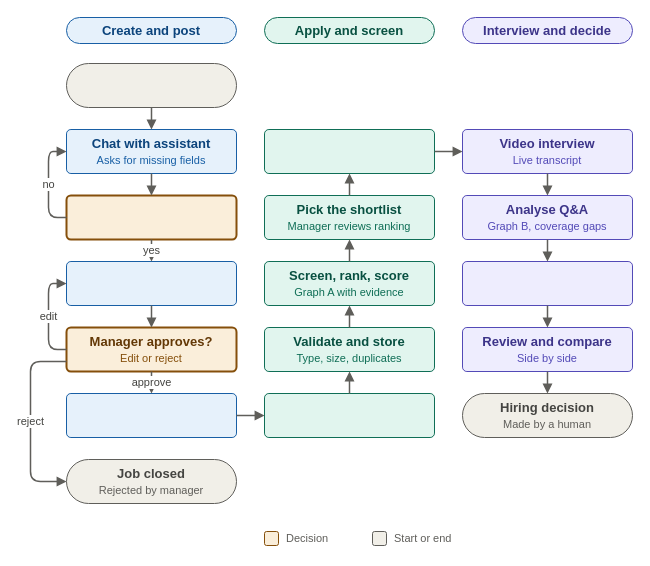
The diagram is 650 pixels wide and 566 high, and some of its shapes have lost their labels. The shapes that lost their labels are listed below. From the top down, each one's centre as x and y in pixels, then its label:
At pixel 151 85: "Describe the role Hiring manager starts".
At pixel 349 151: "Create session Candidate and profile".
At pixel 151 217: "Profile complete? No: ask again".
At pixel 151 283: "Draft and check post Policy RAG, compliance".
At pixel 547 283: "Build assessment Graph C, with evidence".
At pixel 151 415: "Publish post Approved channels only".
At pixel 349 415: "Candidates email CVs Job code in subject".
